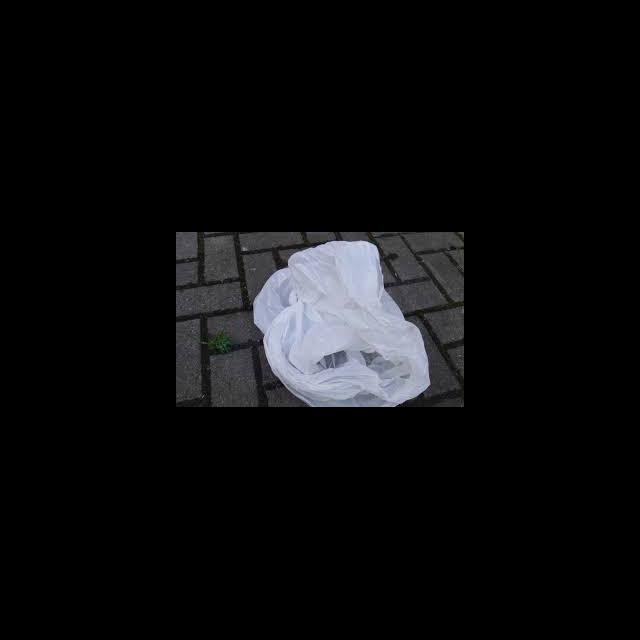plastic: (252, 239, 429, 406)
